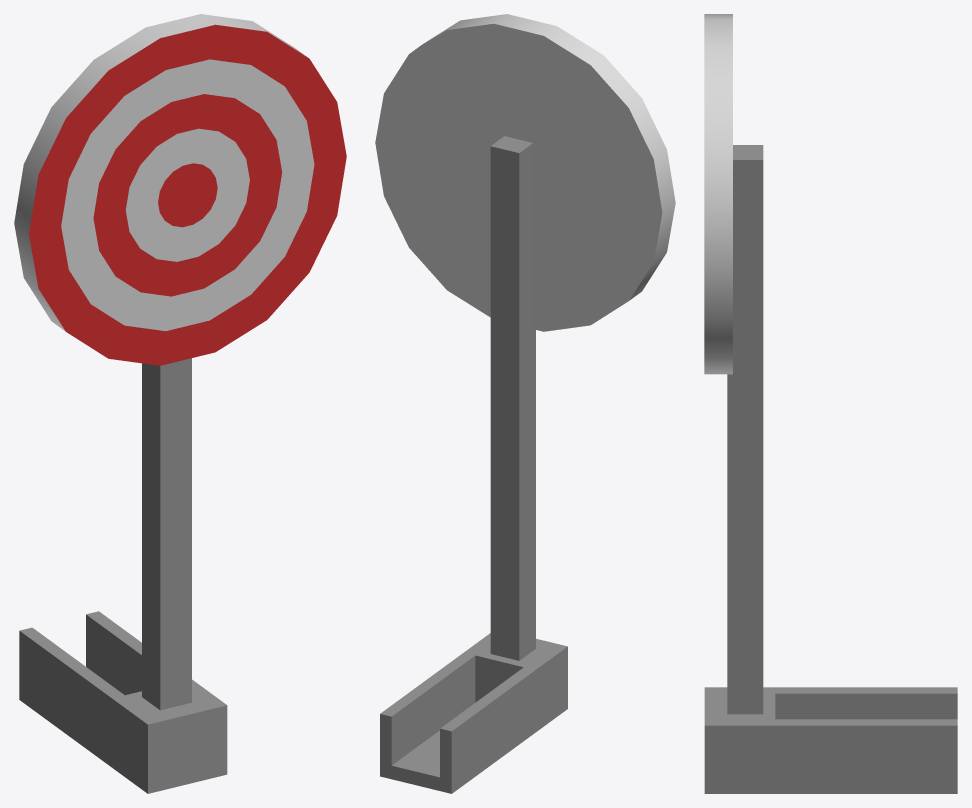
The model's file is Target.FBX.
3 views of the same model, side by side, from view 1: azimuth 30°, elevation 25°; view 2: azimuth 150°, elevation 25°; view 3: azimuth 270°, elevation 25° (orthographic). The views are drawn at different scales.
Visible parts, largest first — view 1: Target, Base; view 2: Target, Base; view 3: Target, Base.
Part boxes in pixels (<box>): Target: <box>14,14,346,710</box>; Base: <box>19,611,227,793</box>; Target: <box>375,14,675,660</box>; Base: <box>380,633,567,793</box>; Target: <box>704,14,763,714</box>; Base: <box>704,687,957,793</box>.
Size of the model in its own units: 39.37 by 89.09 by 27.6.
